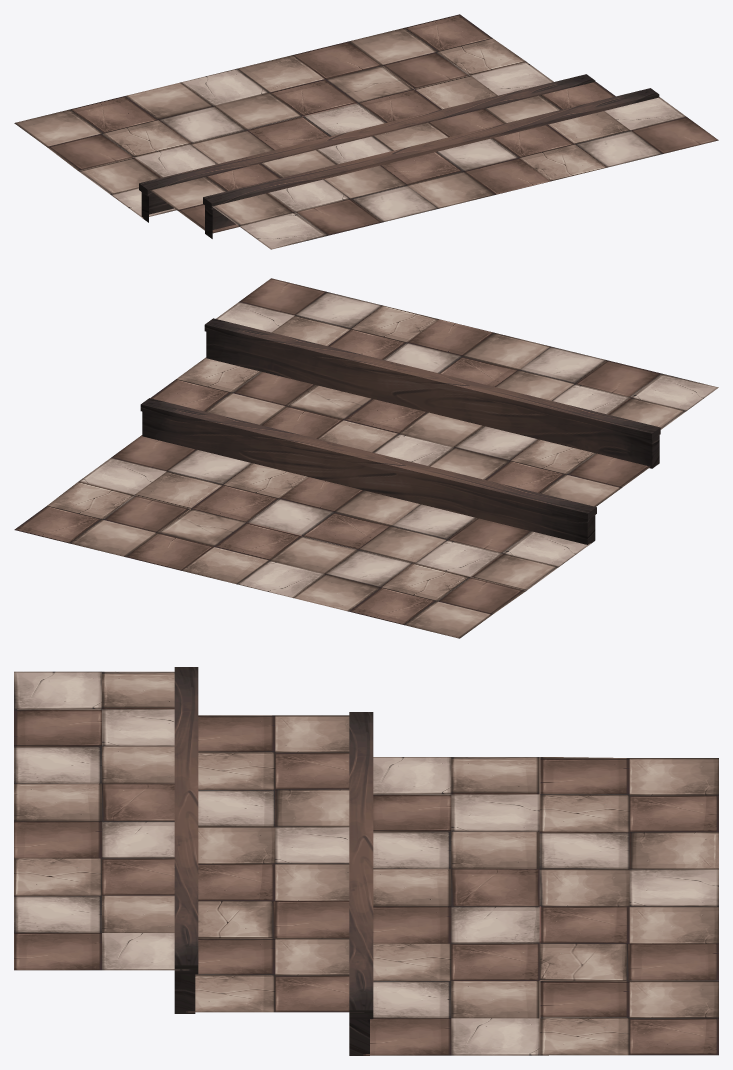
Rendered from Straight2.fbx.
The picture shows the model from 3 angles, top to bottom: view 1: azimuth 30°, elevation 25°; view 2: azimuth 150°, elevation 25°; view 3: azimuth 270°, elevation 25°; orthographic projection. The views are drawn at different scales.
Visible parts, largest first — view 1: Straight2_lp; view 2: Straight2_lp; view 3: Straight2_lp.
Part boxes in pixels (x1,y1,x2,y2): Straight2_lp: [14, 14, 718, 249]; Straight2_lp: [14, 278, 718, 638]; Straight2_lp: [14, 667, 718, 1055].
Bounding box in the file's own units: 0.6047 × 0.0861 × 0.6027.
